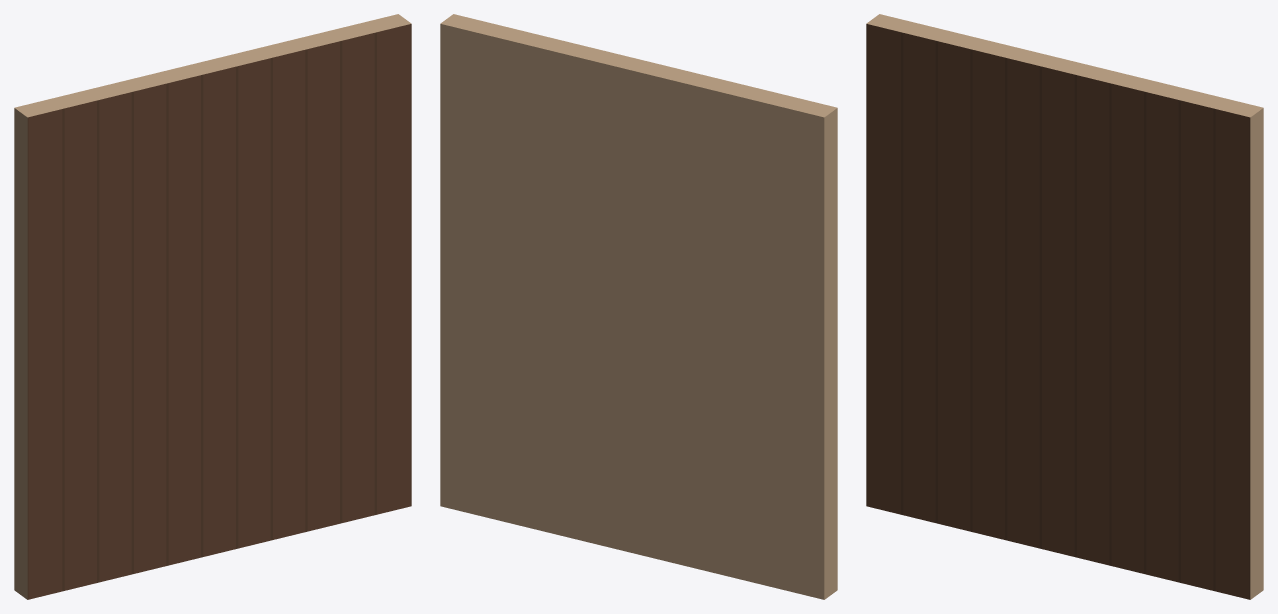
Rendered from Wall3_C9_01.fbx.
3 views of the same model, side by side, from view 1: azimuth 30°, elevation 25°; view 2: azimuth 150°, elevation 25°; view 3: azimuth 330°, elevation 25° (orthographic).
Parts seen in each view (by area): view 1: Wall3_C9_01; view 2: Wall3_C9_01; view 3: Wall3_C9_01.
Boxes of the visible parts, <box> form: Wall3_C9_01: <box>14,14,411,599</box>; Wall3_C9_01: <box>440,14,837,599</box>; Wall3_C9_01: <box>866,14,1263,599</box>.
Bounding box in the file's own units: 250 × 300 × 15.
